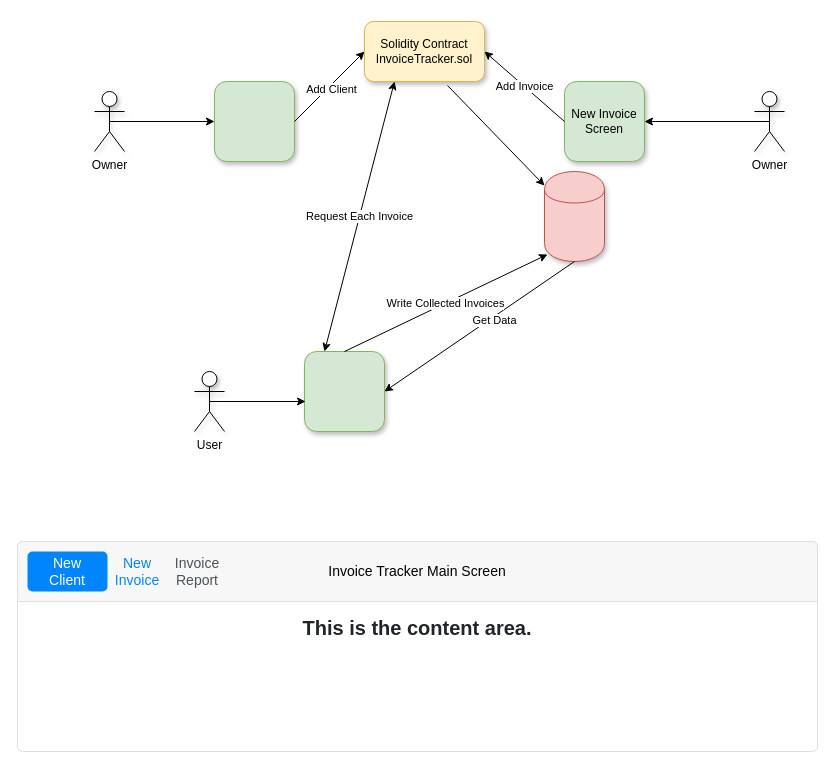
Image size: 835x769. Some labels were removed from this diagram. Each missing label, with the centre of its shape:
"Invoice Report Screen" goes at pixel 345 392.
"IPFS" goes at pixel 575 217.
"New Client Screen" goes at pixel 255 122.
